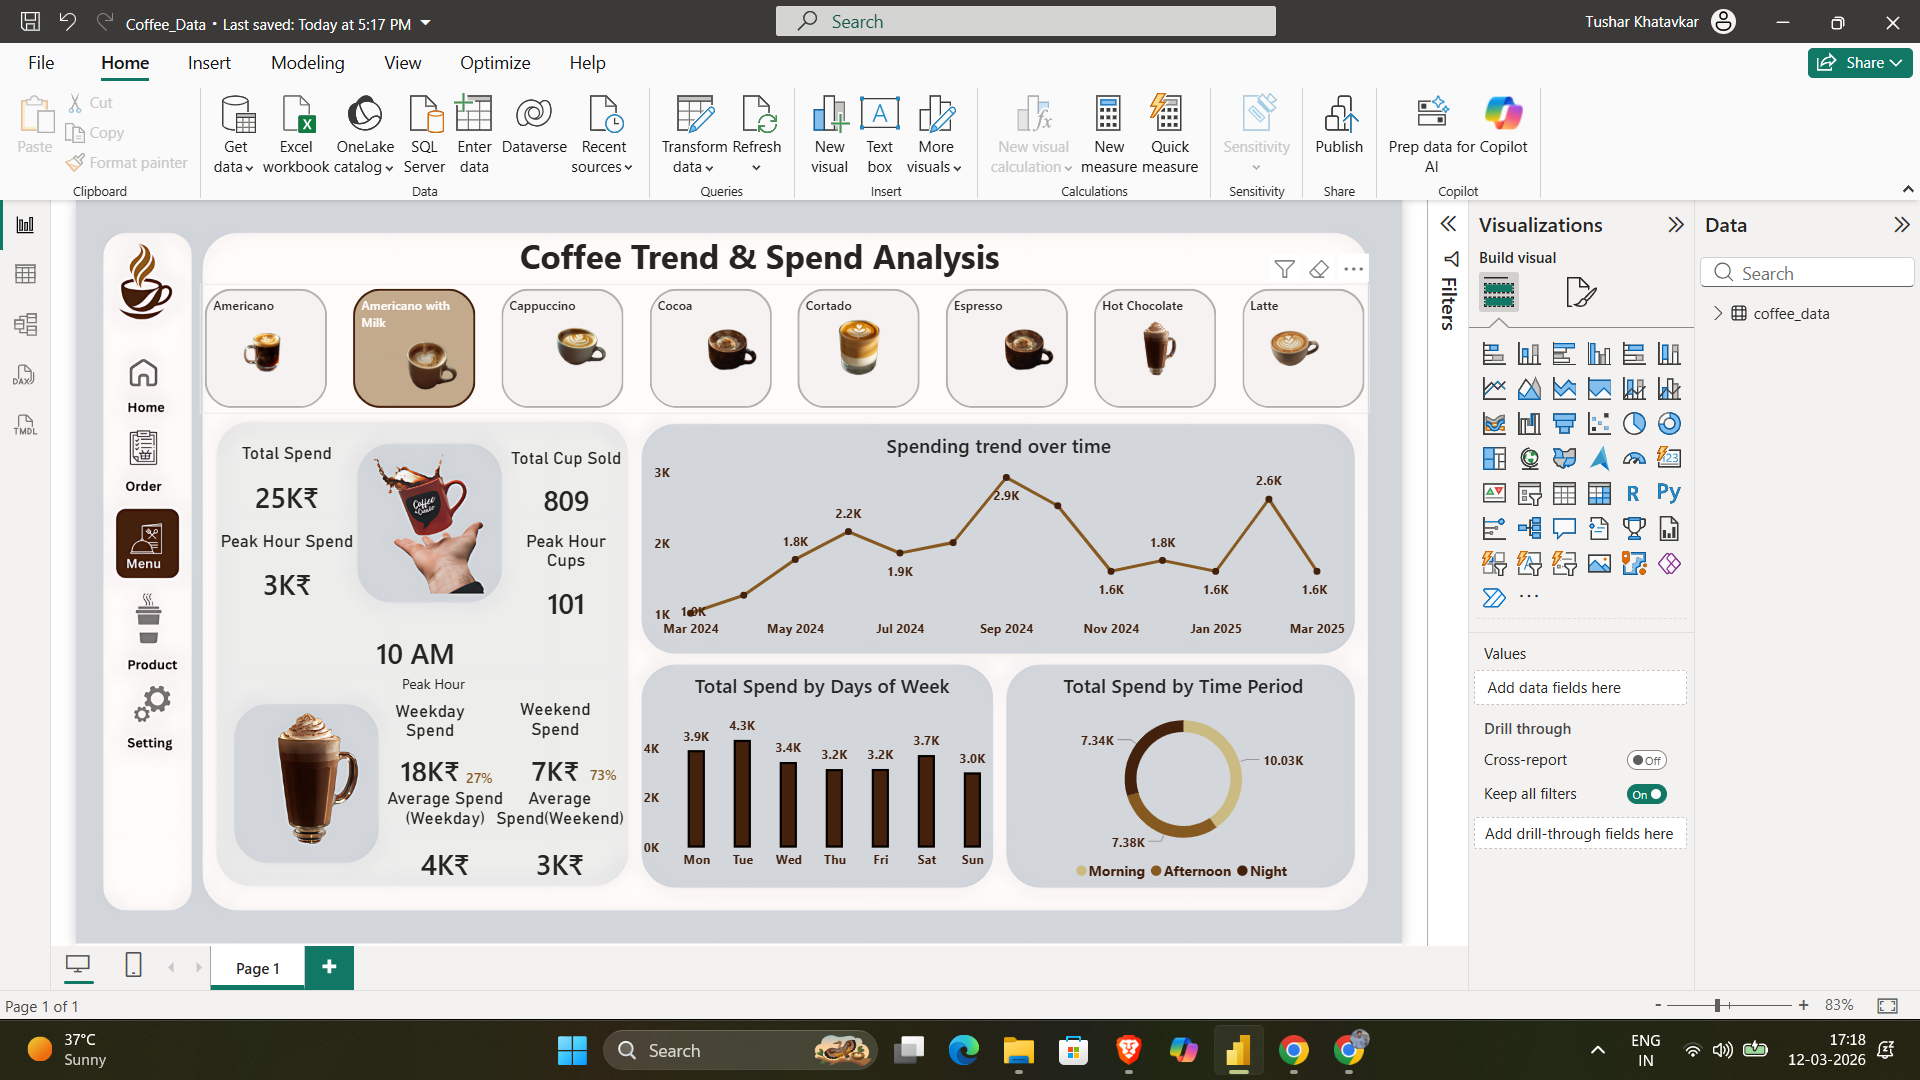

The page's visual inventory and layout, read from the dashboard file:
{"tool":"powerbi","page":{"name":"Coffee Sales Dashboard","canvas":[1280,720],"ordinal":0},"visuals":[{"type":"textbox","box":[422.9,27.4,485.7,53.1],"z":0},{"type":"cardVisual","title":"Total Spend","fields":{"Data":["coffee_data.Total_Spen"]},"box":[132.7,234.4,141.6,84],"z":1000},{"type":"cardVisual","title":"Total Cup Sold","fields":{"Data":["coffee_data.Total_Cup_Sold"]},"box":[413.2,238.9,121.2,79.6],"z":2000},{"type":"cardVisual","title":"Peak Hour Spend","fields":{"Data":["coffee_data.Peak_Hours"]},"box":[134.5,318.5,139.8,84],"z":3000},{"type":"cardVisual","title":"Peak Hour Cups","fields":{"Data":["coffee_data.Peak_Hour_Cup"]},"box":[413.2,318.5,121.2,99.1],"z":4000},{"type":"cardVisual","fields":{"Data":["coffee_data.Peak_Hour_Label"]},"box":[269,371.6,134.9,92],"z":5000,"group":"g1"},{"type":"cardVisual","title":"Weekday Spend","fields":{"Data":["coffee_data.WeekDay_Spend"]},"box":[280.5,482.2,123.9,95.5],"z":5000},{"type":"cardVisual","title":"Weekend Spend","fields":{"Data":["coffee_data.WeekEnd_Spend"]},"box":[399,481.3,126.5,96.4],"z":6000},{"type":"cardVisual","fields":{"Data":["coffee_data.% Weekday_Spend"]},"box":[467.1,529.1,84,48.7],"z":7000},{"type":"cardVisual","fields":{"Data":["coffee_data.% WeekEnd_Spend"]},"box":[345.9,529.9,86.7,53.1],"z":8000},{"type":"cardVisual","title":"Average Spend (Weekday)","fields":{"Data":["coffee_data.Weekday_Avg_Spend"]},"box":[289.3,567.1,133.6,107.1],"z":9000},{"type":"cardVisual","title":"Average Spend(Weekend)","fields":{"Data":["coffee_data.WeekEnd_Avg_Spend"]},"box":[399,567.1,135.4,107.1],"z":10000},{"type":"group","id":"g1","title":"Group 1","box":[269,371.6,162.9,91.7],"z":11000},{"type":"textbox","box":[276.7,434.1,154.2,29],"z":11001,"group":"g1"},{"type":"lineChart","title":"Spending trend over time","fields":{"Y":["Sum(coffee_data.money(Rs))"],"Category":["coffee_data.Date.Variation.Date Hierarchy.Year","coffee_data.Date.Variation.Date Hierarchy.Quarter","coffee_data.Date.Variation.Date Hierarchy.Month"]},"box":[551.2,224.7,678.6,207.9],"z":12000},{"type":"clusteredColumnChart","title":"Total Spend by Days of Week","fields":{"Y":["Sum(coffee_data.money(Rs))"],"Category":["coffee_data.Weekday"]},"box":[542.3,456.5,354.8,199.1],"z":13000},{"type":"donutChart","title":"Total Spend by Time Period","fields":{"Category":["coffee_data.Time_of_Day"],"Y":["Sum(coffee_data.money(Rs))"]},"box":[908.6,456.5,321.2,210.6],"z":14000},{"type":"advancedSlicerVisual","fields":{"Values":["coffee_data.coffee_name"]},"box":[119.4,80.5,1129.8,125.6],"z":15000}]}

Visuals, with their boxes on the page's 1280x720 design canvas (x1, y1, x2, y2). These are canvas units, not pixel positions in the 1920x1080 screenshot, which may show the page scaled, cropped or inside an application window:
textbox: [423,27,909,80]
"Total Spend" cardVisual: [133,234,274,318]
"Total Cup Sold" cardVisual: [413,239,534,318]
"Peak Hour Spend" cardVisual: [134,318,274,402]
"Peak Hour Cups" cardVisual: [413,318,534,418]
cardVisual - coffee_data.Peak_Hour_Label: [269,372,404,464]
"Weekday Spend" cardVisual: [280,482,404,578]
"Weekend Spend" cardVisual: [399,481,526,578]
cardVisual - coffee_data.% Weekday_Spend: [467,529,551,578]
cardVisual - coffee_data.% WeekEnd_Spend: [346,530,433,583]
"Average Spend (Weekday)" cardVisual: [289,567,423,674]
"Average Spend(Weekend)" cardVisual: [399,567,534,674]
"Group 1" group: [269,372,432,463]
textbox: [277,434,431,463]
"Spending trend over time" lineChart: [551,225,1230,433]
"Total Spend by Days of Week" clusteredColumnChart: [542,456,897,656]
"Total Spend by Time Period" donutChart: [909,456,1230,667]
advancedSlicerVisual - coffee_data.coffee_name: [119,80,1249,206]
